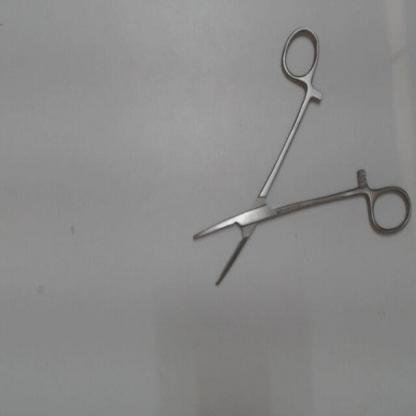Mayo Needle Holder: (184, 22, 415, 297)
